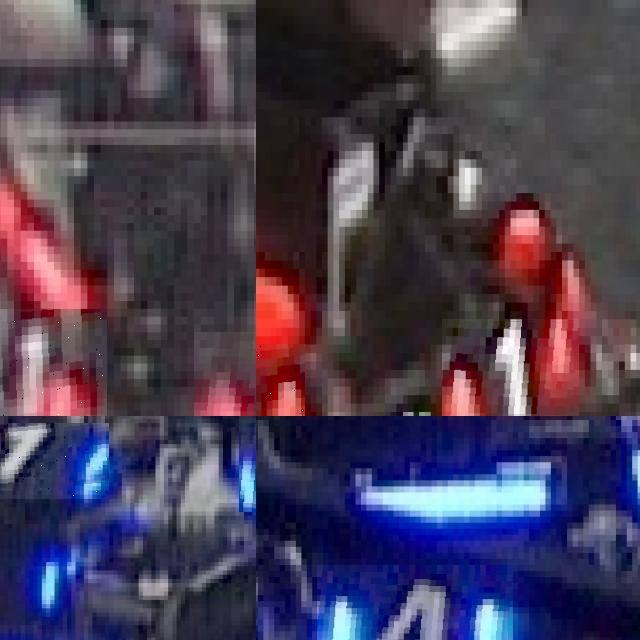B1: (0, 423, 109, 499), (0, 519, 58, 612)
B4: (317, 565, 512, 640)
R1: (442, 319, 579, 416), (0, 309, 107, 416)
